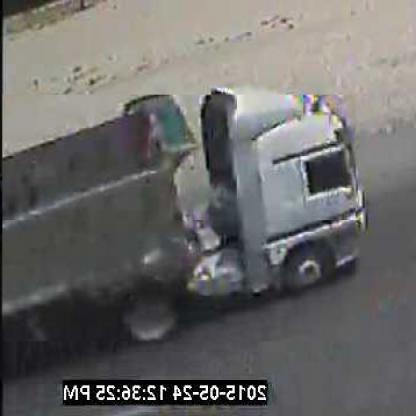truck: (2, 96, 357, 344)
